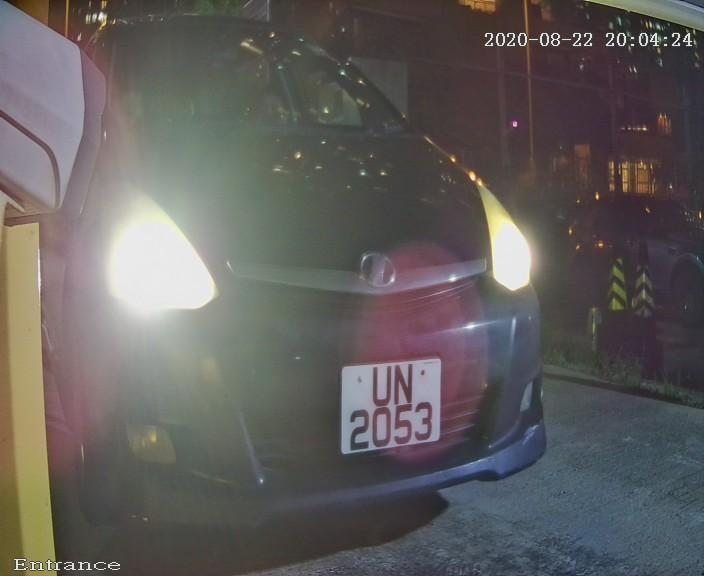License Plate: (324, 350, 453, 463)
